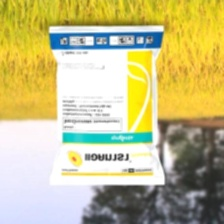insecticide: (44, 22, 166, 187)
